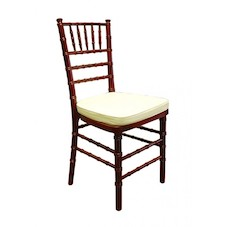chair: (28, 4, 193, 218)
